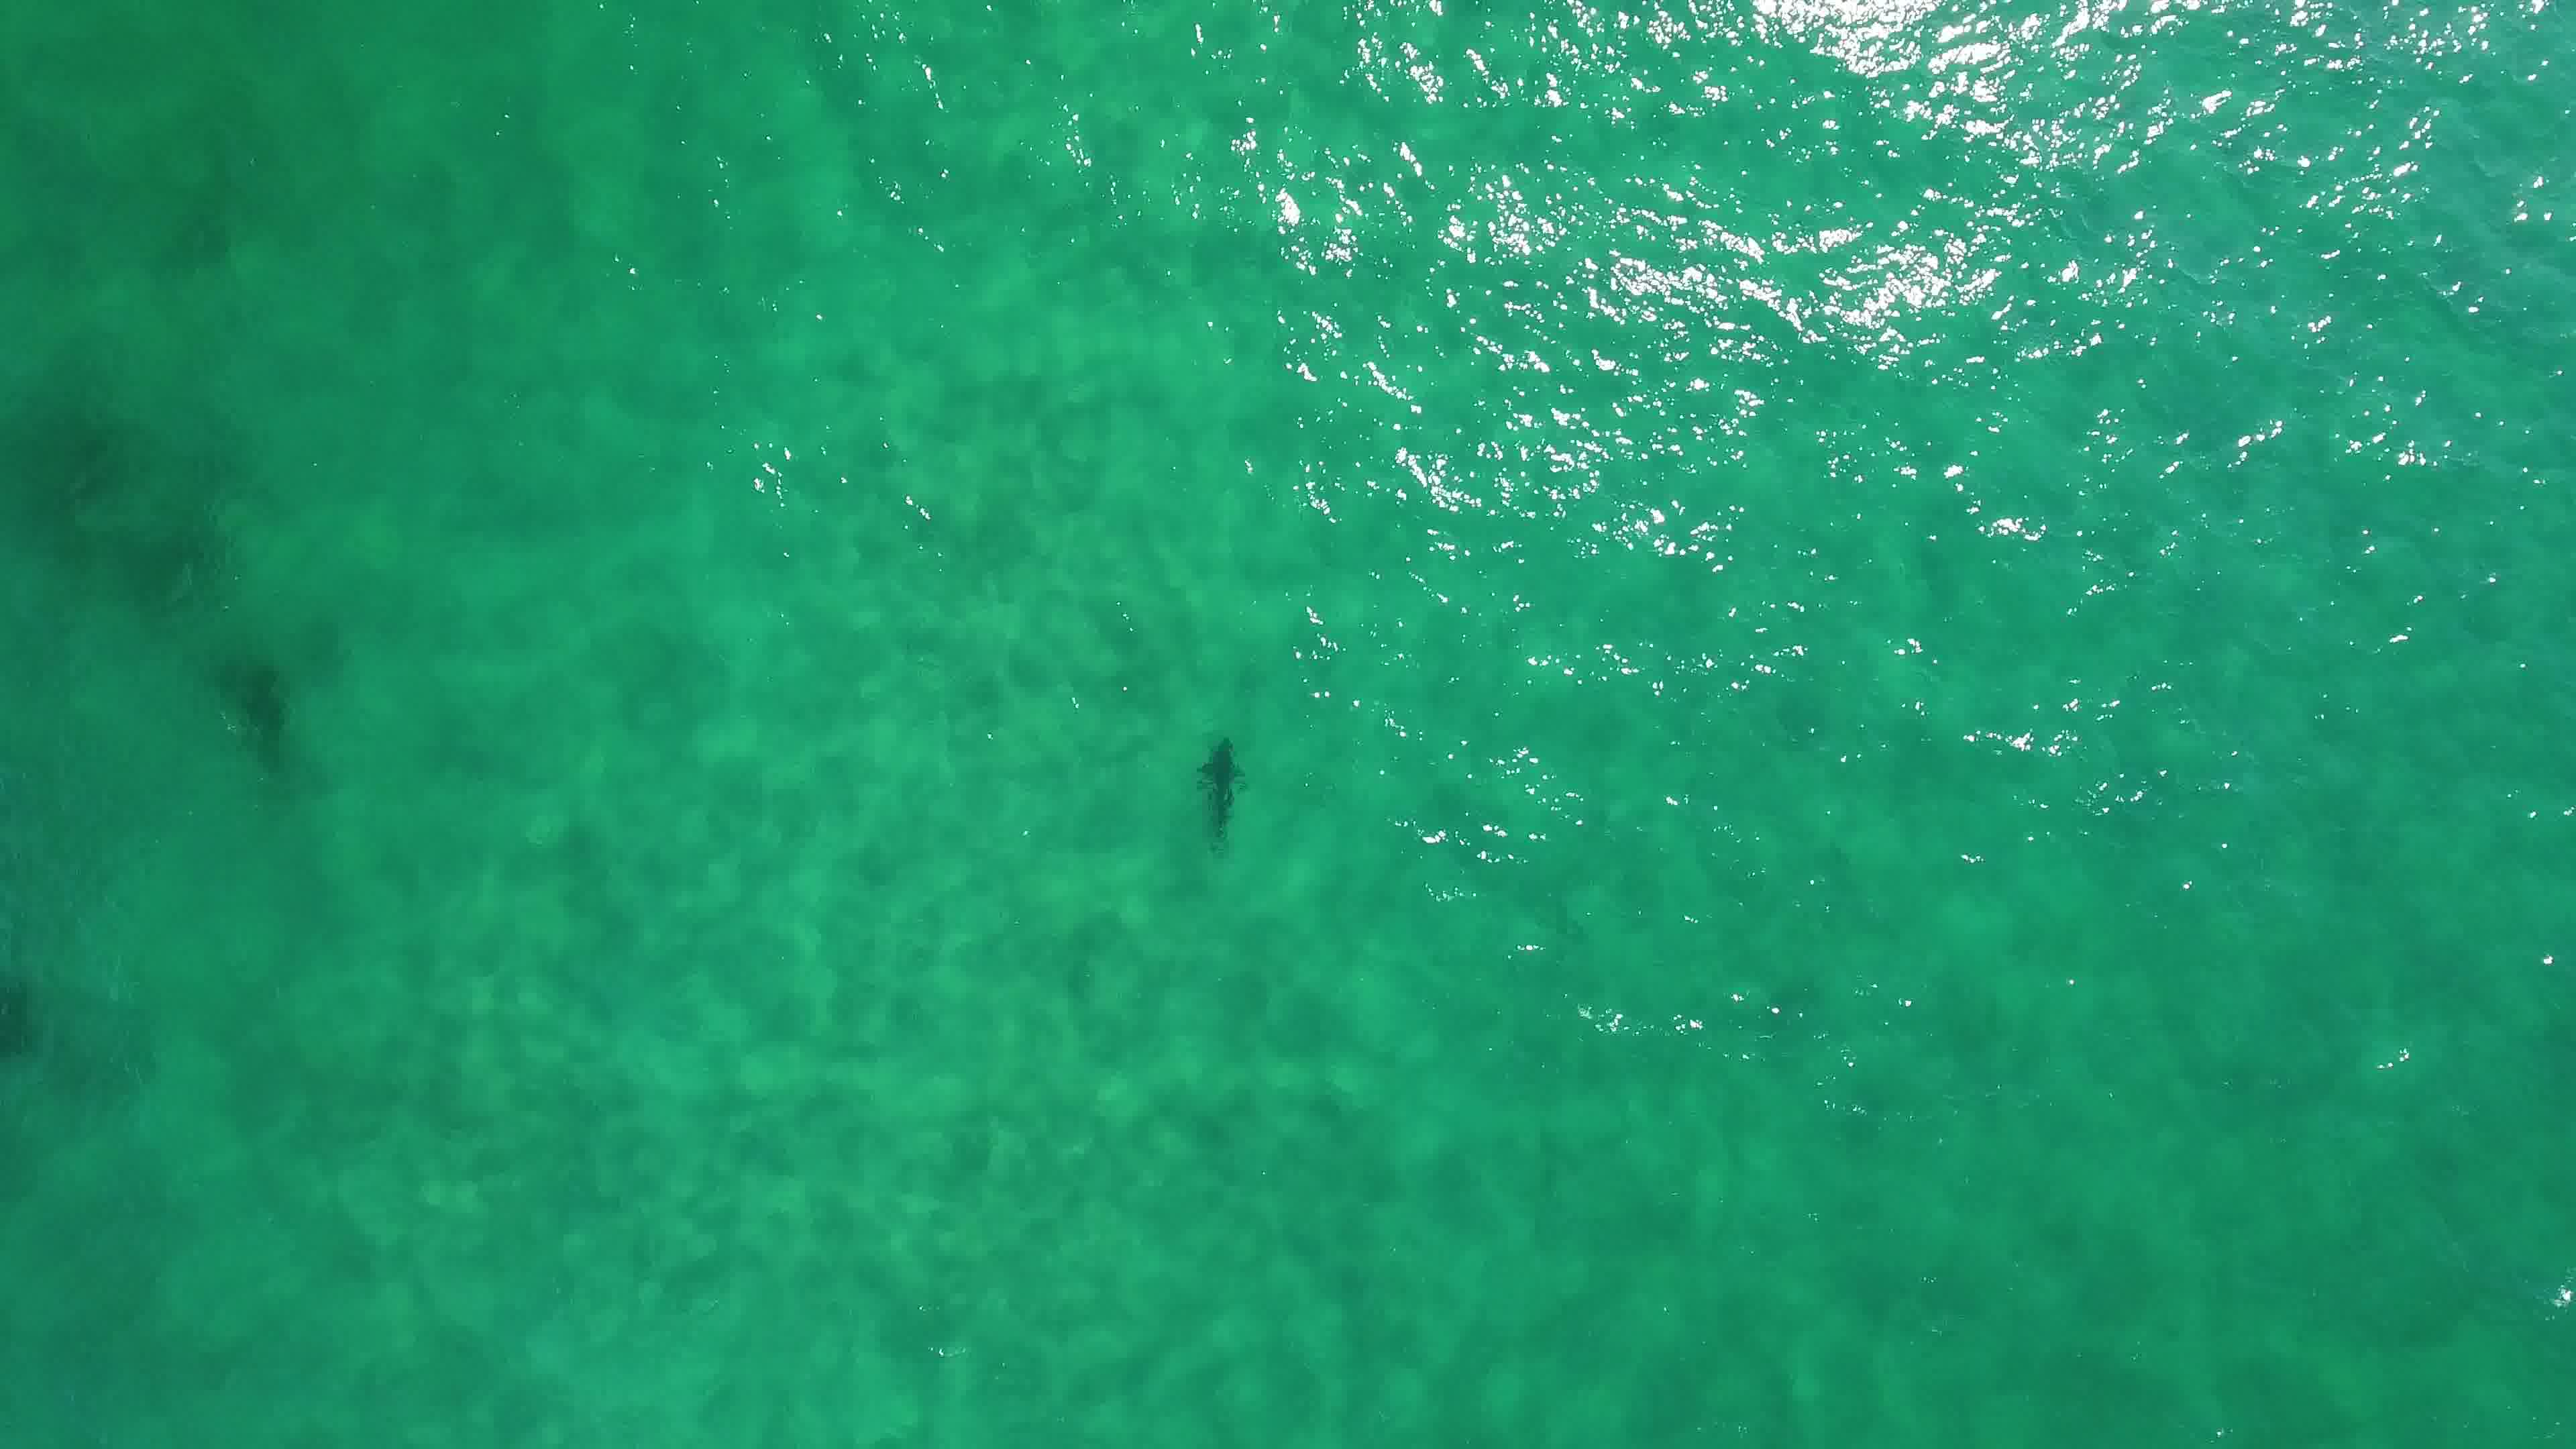shark: (1189, 731, 1254, 849)
